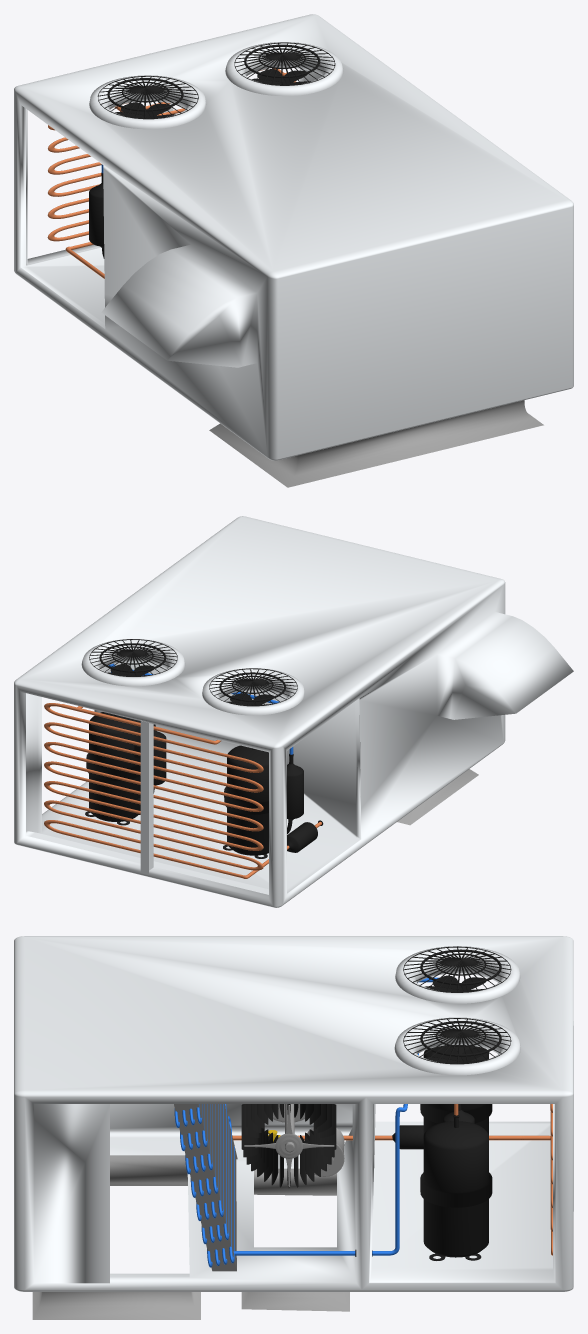
File: rooftop_engie.glb
3 renders of one model, top to bottom at view 1: azimuth 30°, elevation 25°; view 2: azimuth 150°, elevation 25°; view 3: azimuth 270°, elevation 25°, orthographic. The views are drawn at different scales.
Visible parts, largest first — view 1: Cubo, Toróide.006, Toróide.002, Círculo, Círculo.001, BézierCurve.010, Cilindro.PQ.002; view 2: Cubo, BézierCurve.010, CilindroGD.001, CilindroGD.002, Toróide.006, Toróide.002, Cubo.003, Círculo, Círculo.001, Cilindro.PQ.002, Cilindro.PQ.003, BézierCurve.013 (+1 smaller); view 3: Cubo, CilindroGD.001, Cubo.015, Ventilador_Evap, Toróide.002, Toróide.006, Círculo.001, Círculo, BézierCurve.018, BézierCurve.019, CilindroGD.002, Cilindro.PQ.003 (+5 smaller).
Part boxes in pixels (x1,y1,x2,y2): Cubo: (14, 14, 573, 487); Toróide.006: (89, 75, 206, 129); Toróide.002: (225, 42, 343, 96); Círculo: (234, 42, 335, 85); Círculo.001: (97, 76, 198, 119); BézierCurve.010: (47, 69, 286, 249); Cilindro.PQ.002: (89, 183, 104, 248); Cubo: (14, 516, 573, 907); BézierCurve.010: (44, 703, 263, 878); CilindroGD.001: (86, 712, 140, 821); CilindroGD.002: (224, 745, 268, 855); Toróide.006: (202, 668, 304, 715); Toróide.002: (81, 639, 185, 686); Cubo.003: (140, 720, 153, 874); Círculo: (89, 639, 177, 676); Círculo.001: (209, 668, 297, 706); Cilindro.PQ.002: (287, 763, 303, 820); Cilindro.PQ.003: (287, 822, 317, 852); BézierCurve.013: (61, 704, 219, 744); Cubo: (14, 936, 573, 1319); CilindroGD.001: (420, 1121, 492, 1257); Cubo.015: (174, 1104, 237, 1271); Ventilador_Evap: (241, 1104, 336, 1187); Toróide.002: (394, 1017, 520, 1075); Toróide.006: (395, 946, 520, 1003); Círculo.001: (403, 946, 511, 992); Círculo: (403, 1018, 511, 1064); BézierCurve.018: (196, 1104, 234, 1263); BézierCurve.019: (233, 1104, 407, 1255); CilindroGD.002: (420, 1045, 492, 1134); Cilindro.PQ.003: (392, 1125, 423, 1149).
Bounding box in the file's own units: 4.41 × 2.55 × 5.06.
